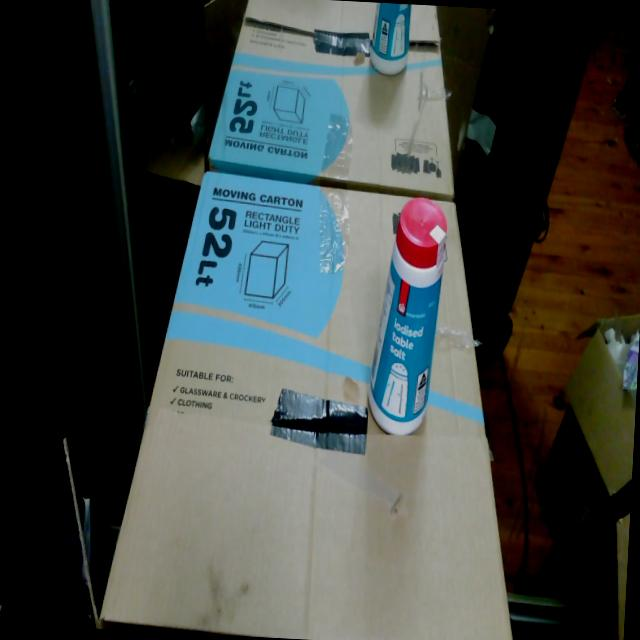woolworths_salt_bottle: (369, 198, 447, 435)
